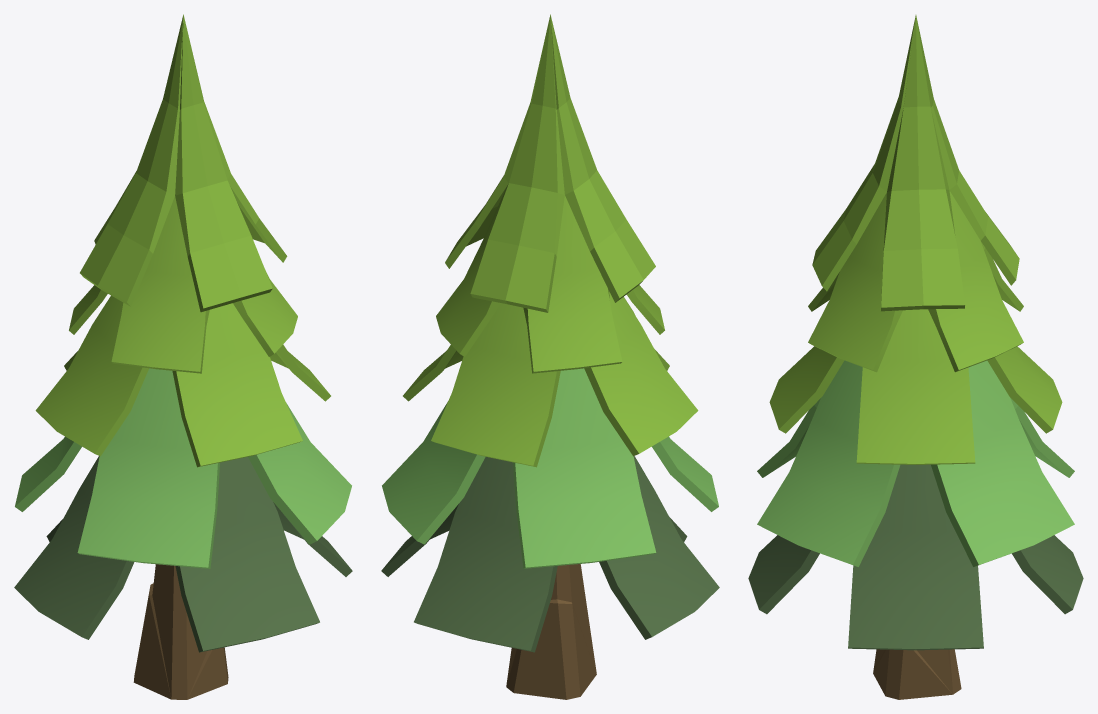
File: model_polytope_fern03.fbx
3 renders of one model, left to right at view 1: azimuth 30°, elevation 25°; view 2: azimuth 150°, elevation 25°; view 3: azimuth 270°, elevation 25°, orthographic.
Visible parts, largest first — view 1: model_polytope_fern03; view 2: model_polytope_fern03; view 3: model_polytope_fern03.
Part boxes in pixels (x1,y1,x2,y2): model_polytope_fern03: [14, 14, 352, 699]; model_polytope_fern03: [381, 14, 719, 699]; model_polytope_fern03: [748, 15, 1083, 699].
Bounding box in the file's own units: 202 × 445 × 202.
